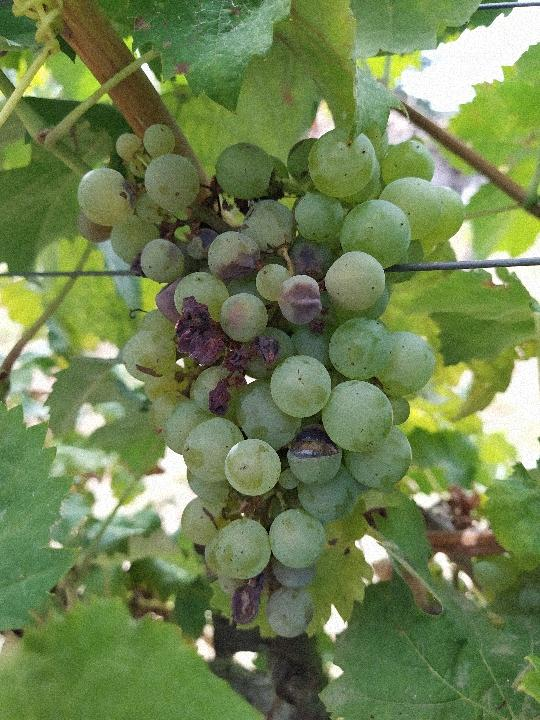grape: (73, 122, 466, 640)
